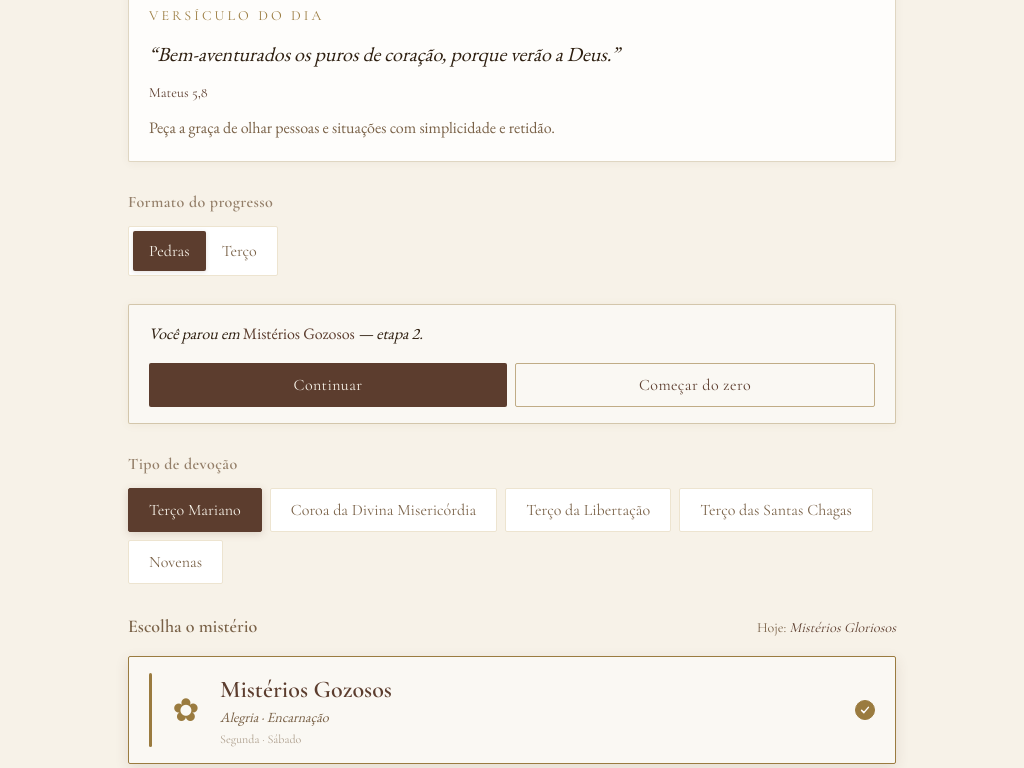
Test: Home prayer flow › lets returning users continue saved progress from home
The image size is (1024, 768).
(page scrolled)
Click the button "Continuar". click: [328, 385]
box: [149,363,507,407]
(page scrolled)
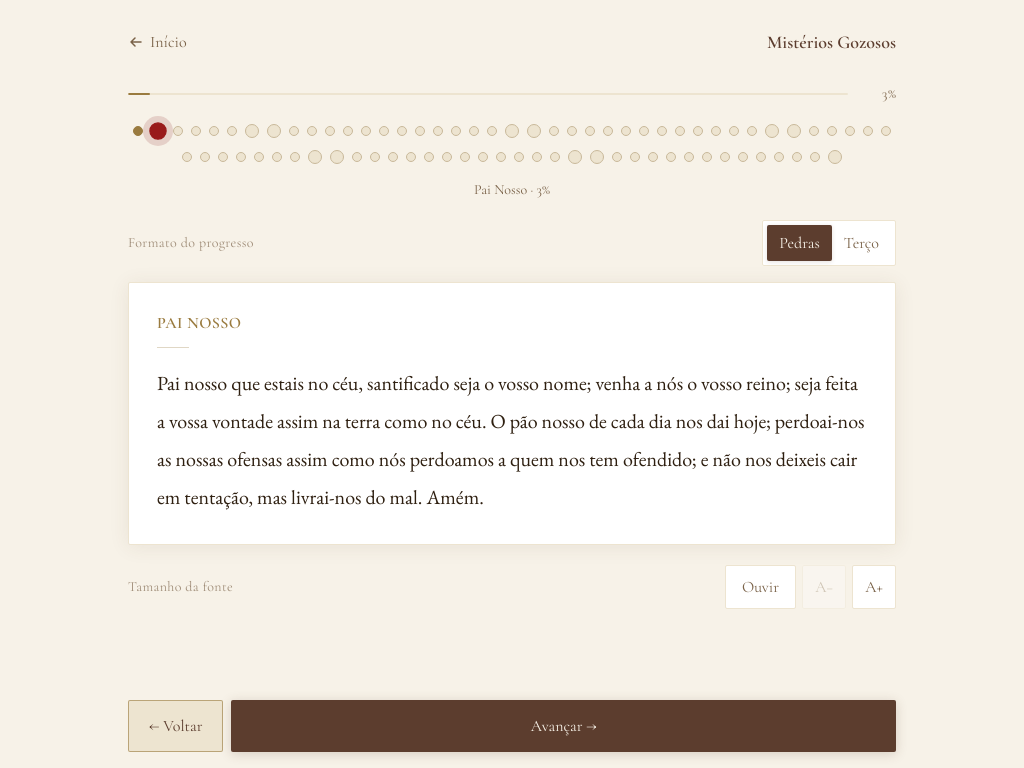
Expected: the text "Mistérios Gozosos" is shown, [767,28,896,56]
Expected: the text "Pai Nosso" is shown, [157,313,242,333]
